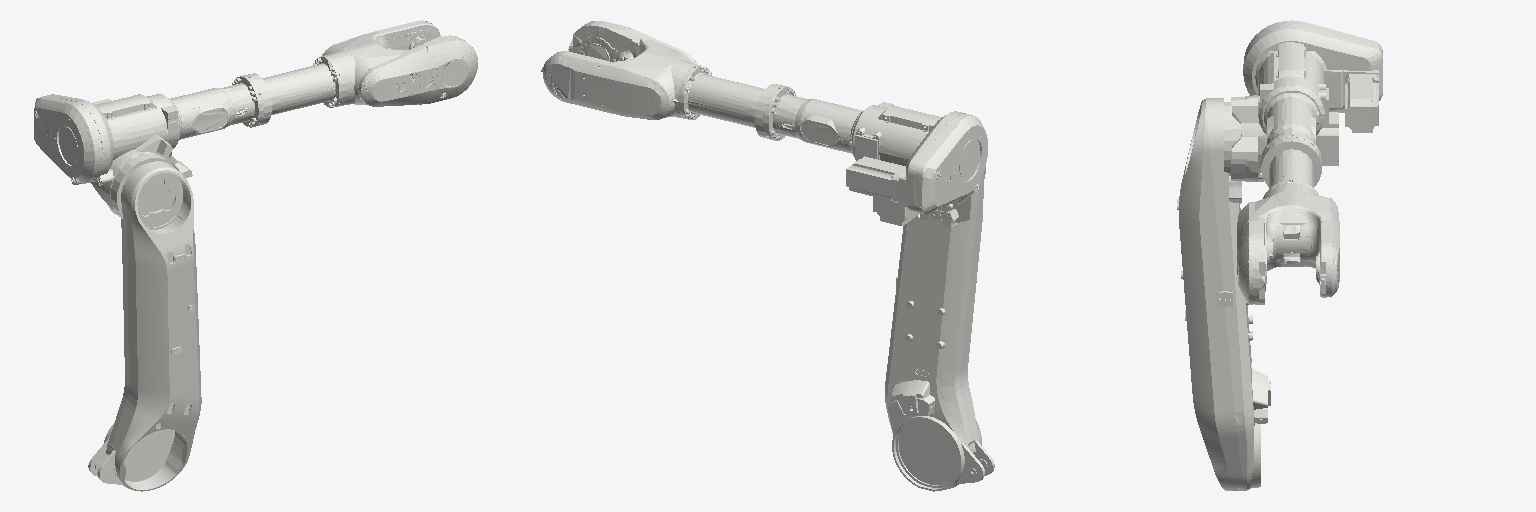
The robot description file, URDF, robot "abb_irb6700_150_320":
<?xml version="1.0" ?>
<!-- =================================================================================== -->
<!-- |    This document was autogenerated by xacro from irb6700_150_320.xacro          | -->
<!-- |    EDITING THIS FILE BY HAND IS NOT RECOMMENDED                                 | -->
<!-- =================================================================================== -->
<robot name="abb_irb6700_150_320" xmlns:xacro="http://ros.org/wiki/xacro">
  <!-- Conversion were obtained from http://www.e-paint.co.uk/Lab_values.asp
       unless otherwise stated. -->
  <!-- link list -->
  <link name="base_link">
    <visual>
      <origin rpy="0 0 0" xyz="0 0 0"/>
      <geometry>
        <mesh filename="package://abb_irb6700_support/meshes/irb6700/visual/base_link.stl"/>
      </geometry>
      <material name="">
        <color rgba="0.9254902 0.9254902 0.9058824 1"/>
      </material>
    </visual>
    <collision>
      <origin rpy="0 0 0" xyz="0 0 0"/>
      <geometry>
        <mesh filename="package://abb_irb6700_support/meshes/irb6700/collision/base_link.stl"/>
      </geometry>
      <material name="">
        <color rgba="1 1 0 1"/>
      </material>
    </collision>
  </link>
  <link name="link_1">
    <visual>
      <origin rpy="0 0 0" xyz="0 0 0"/>
      <geometry>
        <mesh filename="package://abb_irb6700_support/meshes/irb6700/visual/link_1.stl"/>
      </geometry>
      <material name="">
        <color rgba="0.9254902 0.9254902 0.9058824 1"/>
      </material>
    </visual>
    <collision>
      <origin rpy="0 0 0" xyz="0 0 0"/>
      <geometry>
        <mesh filename="package://abb_irb6700_support/meshes/irb6700/collision/link_1.stl"/>
      </geometry>
      <material name="">
        <color rgba="1 1 0 1"/>
      </material>
    </collision>
  </link>
  <link name="cylinder">
    <visual>
      <origin rpy="0 0 0" xyz="0 0 0"/>
      <geometry>
        <mesh filename="package://abb_irb6700_support/meshes/irb6700/visual/cylinder.stl"/>
      </geometry>
      <material name="">
        <color rgba="0.9254902 0.9254902 0.9058824 1"/>
      </material>
    </visual>
    <collision>
      <origin rpy="0 0 0" xyz="0 0 0"/>
      <geometry>
        <mesh filename="package://abb_irb6700_support/meshes/irb6700/collision/cylinder.stl"/>
      </geometry>
      <material name="">
        <color rgba="1 1 0 1"/>
      </material>
    </collision>
  </link>
  <link name="piston">
    <visual>
      <origin rpy="0 0 0" xyz="0 0 0"/>
      <geometry>
        <mesh filename="package://abb_irb6700_support/meshes/irb6700/visual/piston.stl"/>
      </geometry>
      <material name="">
        <color rgba="0.9254902 0.9254902 0.9058824 1"/>
      </material>
    </visual>
    <collision>
      <origin rpy="0 0 0" xyz="0 0 0"/>
      <geometry>
        <mesh filename="package://abb_irb6700_support/meshes/irb6700/collision/piston.stl"/>
      </geometry>
      <material name="">
        <color rgba="1 1 0 1"/>
      </material>
    </collision>
  </link>
  <link name="link_2">
    <visual>
      <origin rpy="0 0 0" xyz="0 0 0"/>
      <geometry>
        <mesh filename="package://abb_irb6700_support/meshes/irb6700_150_320/visual/link_2.stl"/>
      </geometry>
      <material name="">
        <color rgba="0.9254902 0.9254902 0.9058824 1"/>
      </material>
    </visual>
    <collision>
      <origin rpy="0 0 0" xyz="0 0 0"/>
      <geometry>
        <mesh filename="package://abb_irb6700_support/meshes/irb6700_150_320/collision/link_2.stl"/>
      </geometry>
      <material name="">
        <color rgba="1 1 0 1"/>
      </material>
    </collision>
  </link>
  <link name="link_3">
    <visual>
      <origin rpy="0 0 0" xyz="0 0 0"/>
      <geometry>
        <mesh filename="package://abb_irb6700_support/meshes/irb6700_150_320/visual/link_3.stl"/>
      </geometry>
      <material name="">
        <color rgba="0.9254902 0.9254902 0.9058824 1"/>
      </material>
    </visual>
    <collision>
      <origin rpy="0 0 0" xyz="0 0 0"/>
      <geometry>
        <mesh filename="package://abb_irb6700_support/meshes/irb6700_150_320/collision/link_3.stl"/>
      </geometry>
      <material name="">
        <color rgba="1 1 0 1"/>
      </material>
    </collision>
  </link>
  <link name="link_4">
    <visual>
      <origin rpy="0 0 0" xyz="0 0 0"/>
      <geometry>
        <mesh filename="package://abb_irb6700_support/meshes/irb6700_150_320/visual/link_4.stl"/>
      </geometry>
      <material name="">
        <color rgba="0.9254902 0.9254902 0.9058824 1"/>
      </material>
    </visual>
    <collision>
      <origin rpy="0 0 0" xyz="0 0 0"/>
      <geometry>
        <mesh filename="package://abb_irb6700_support/meshes/irb6700_150_320/collision/link_4.stl"/>
      </geometry>
      <material name="">
        <color rgba="1 1 0 1"/>
      </material>
    </collision>
  </link>
  <link name="link_5">
    <visual>
      <origin rpy="0 0 0" xyz="0 0 0"/>
      <geometry>
        <mesh filename="package://abb_irb6700_support/meshes/irb6700/visual/link_5.stl"/>
      </geometry>
      <material name="">
        <color rgba="0.9254902 0.9254902 0.9058824 1"/>
      </material>
    </visual>
    <collision>
      <origin rpy="0 0 0" xyz="0 0 0"/>
      <geometry>
        <mesh filename="package://abb_irb6700_support/meshes/irb6700/collision/link_5.stl"/>
      </geometry>
      <material name="">
        <color rgba="1 1 0 1"/>
      </material>
    </collision>
  </link>
  <link name="link_6">
    <visual>
      <origin rpy="0 0 0" xyz="0 0 0"/>
      <geometry>
        <mesh filename="package://abb_irb6700_support/meshes/irb6700/visual/link_6.stl"/>
      </geometry>
      <material name="">
        <color rgba="0.9254902 0.9254902 0.9058824 1"/>
      </material>
    </visual>
    <collision>
      <origin rpy="0 0 0" xyz="0 0 0"/>
      <geometry>
        <mesh filename="package://abb_irb6700_support/meshes/irb6700/collision/link_6.stl"/>
      </geometry>
      <material name="">
        <color rgba="1 1 0 1"/>
      </material>
    </collision>
  </link>
  <joint name="joint_1" type="revolute">
    <origin rpy="0 0 0" xyz="0 0 0.78"/>
    <parent link="base_link"/>
    <child link="link_1"/>
    <axis xyz="0 0 1"/>
    <limit effort="0" lower="-2.96705972839" upper="2.96705972839" velocity="1.91986217719"/>
  </joint>
  <joint name="joint_2" type="revolute">
    <origin rpy="0 0 0" xyz="0.32 0 0"/>
    <parent link="link_1"/>
    <child link="link_2"/>
    <axis xyz="0 1 0"/>
    <limit effort="0" lower="-1.1344640138" upper="1.4835298642" velocity="1.91986217719"/>
  </joint>
  <joint name="joint_3" type="revolute">
    <origin rpy="0 0 0" xyz="0 0 1.280"/>
    <parent link="link_2"/>
    <child link="link_3"/>
    <axis xyz="0 1 0"/>
    <limit effort="0" lower="-3.14159265359" upper="1.2217304764" velocity="1.91986217719"/>
  </joint>
  <joint name="joint_4" type="revolute">
    <origin rpy="0 0 0" xyz="0 0 0.2"/>
    <parent link="link_3"/>
    <child link="link_4"/>
    <axis xyz="1 0 0"/>
    <limit effort="0" lower="-5.23598775598" upper="5.23598775598" velocity="3.31612557879"/>
  </joint>
  <joint name="joint_5" type="revolute">
    <origin rpy="0 0 0" xyz="1.593 0 0"/>
    <parent link="link_4"/>
    <child link="link_5"/>
    <axis xyz="0 1 0"/>
    <limit effort="0" lower="-2.26892802759" upper="2.26892802759" velocity="2.61799387799"/>
  </joint>
  <joint name="joint_6" type="revolute">
    <origin rpy="0 0 0" xyz="0.2 0 0"/>
    <parent link="link_5"/>
    <child link="link_6"/>
    <axis xyz="1 0 0"/>
    <limit effort="0" lower="-6.28318530718" upper="6.28318530718" velocity="3.66519142919"/>
  </joint>
  <joint name="cylinder_joint" type="revolute">
    <origin rpy="0 0 0" xyz="-0.349 -0.194 -0.142"/>
    <parent link="link_1"/>
    <child link="cylinder"/>
    <axis xyz="0 1 0"/>
    <mimic joint="joint_2" multiplier="-0.25"/>
    <limit effort="0" lower="-0.283616003449" upper="0.370882466049" velocity="100"/>
  </joint>
  <joint name="piston_joint" type="prismatic">
    <origin rpy="0.20897 0 -1.57079632679" xyz="0 0 0"/>
    <parent link="cylinder"/>
    <child link="piston"/>
    <axis xyz="0 1 0"/>
    <mimic joint="joint_2" multiplier="0.15"/>
    <limit effort="0" lower="-0.25" upper="0.25" velocity="100"/>
  </joint>
  <!-- ROS-Industrial 'base' frame: base_link to ABB World Coordinates transform -->
  <link name="base"/>
  <joint name="base_link-base" type="fixed">
    <origin rpy="0 0 0" xyz="0 0 0"/>
    <parent link="base_link"/>
    <child link="base"/>
  </joint>
  <!-- ROS-Industrial 'flange' frame: attachment point for EEF models -->
  <link name="flange"/>
  <joint name="joint_6-flange" type="fixed">
    <origin rpy="0 0 0" xyz="0 0 0"/>
    <parent link="link_6"/>
    <child link="flange"/>
  </joint>
  <!-- ROS-Industrial 'tool0' frame: all-zeros tool frame -->
  <link name="tool0"/>
  <joint name="link_6-tool0" type="fixed">
    <origin rpy="0 1.57079632679 0" xyz="0 0 0"/>
    <parent link="flange"/>
    <child link="tool0"/>
  </joint>
</robot>

--- What the picture shows (computed from the rendered views, not written in the file) ---
3 views of the same robot in one strip: view 1: azimuth 30°, elevation 25°; view 2: azimuth 150°, elevation 25°; view 3: azimuth 270°, elevation 25° (orthographic).
Model abb_irb6700_150_320 with 12 links and 11 joints (7 revolute, 1 prismatic, 3 fixed), rooted at base_link, posed every joint at zero.
Links seen in each view (by area): view 1: link_2, link_4, link_3; view 2: link_2, link_4, link_3; view 3: link_2, link_3, link_4.
Boxes of the visible links, bbox=[...] form: link_2: bbox=[88, 161, 201, 491]; link_4: bbox=[59, 20, 477, 163]; link_3: bbox=[34, 94, 192, 217]; link_2: bbox=[885, 166, 994, 491]; link_4: bbox=[541, 21, 979, 178]; link_3: bbox=[846, 102, 987, 225]; link_2: bbox=[1177, 98, 1270, 490]; link_3: bbox=[1224, 20, 1382, 181]; link_4: bbox=[1237, 93, 1339, 304].
Size in the robot's own frame: 2.02 by 0.7869 by 1.85 metres.
3 mesh visuals loaded from 9 distinct referenced files (3 binary STL); not drawn: 6 (reference not matched to a file when rendering).